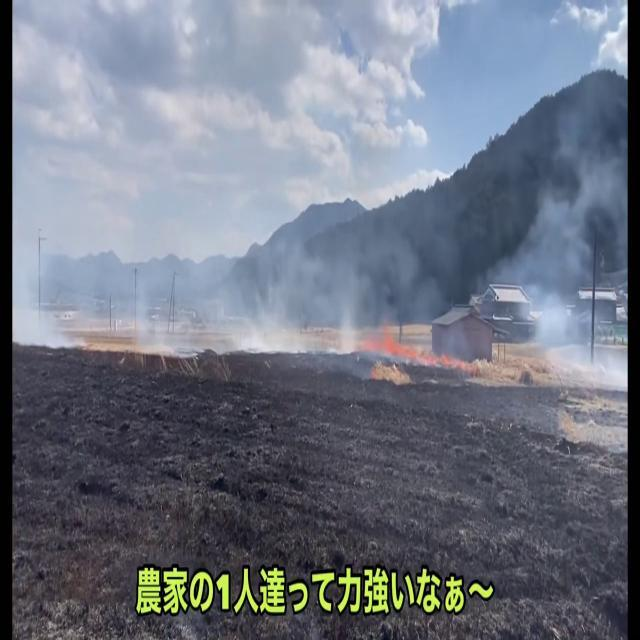Fire: (359, 316, 476, 380)
Smoke: (208, 152, 628, 361)
